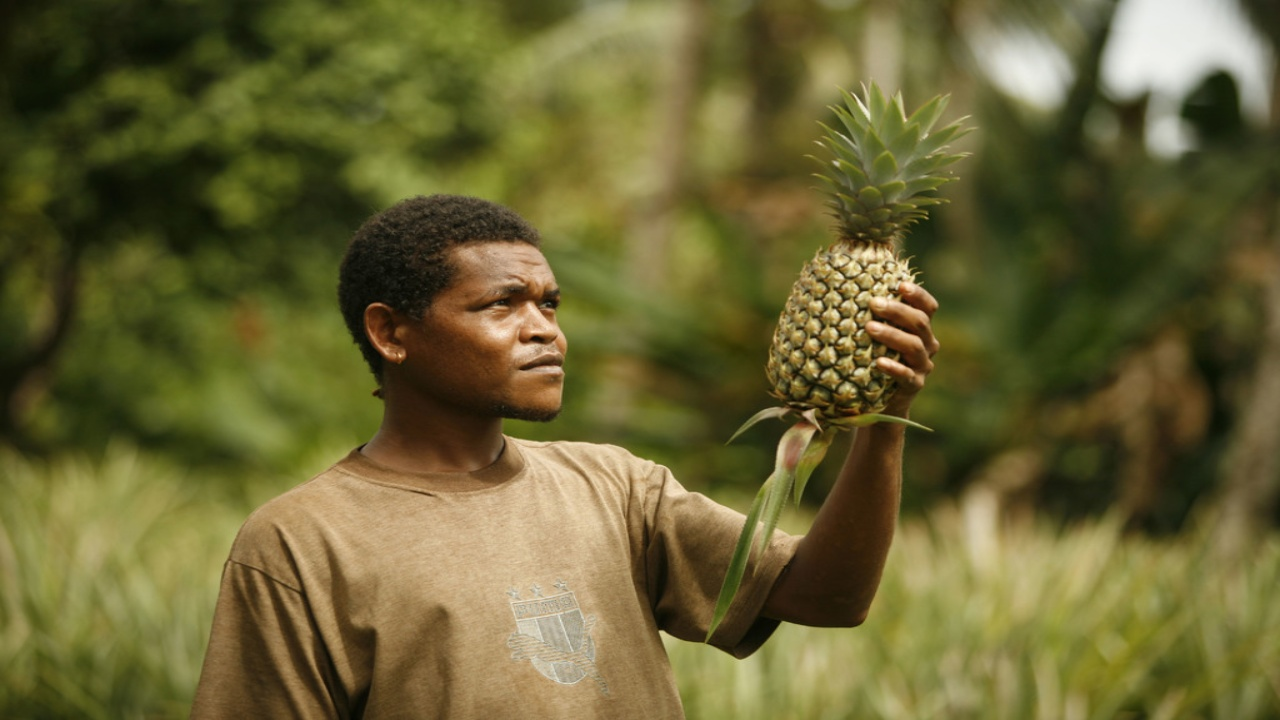pineapple: (758, 90, 992, 455)
